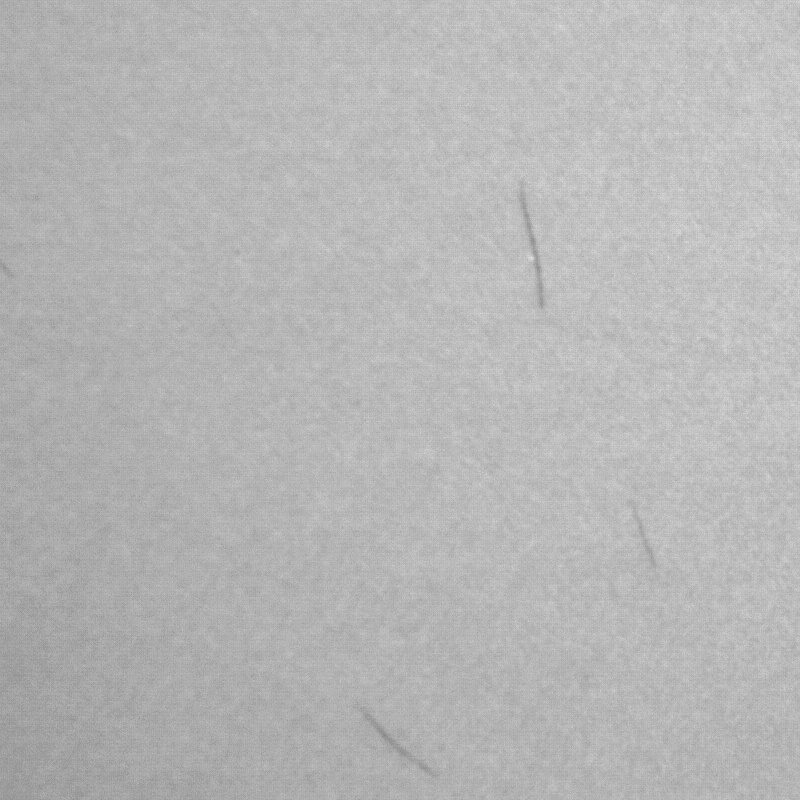defect: (364, 712, 437, 777), (521, 183, 549, 310), (629, 504, 659, 564)
